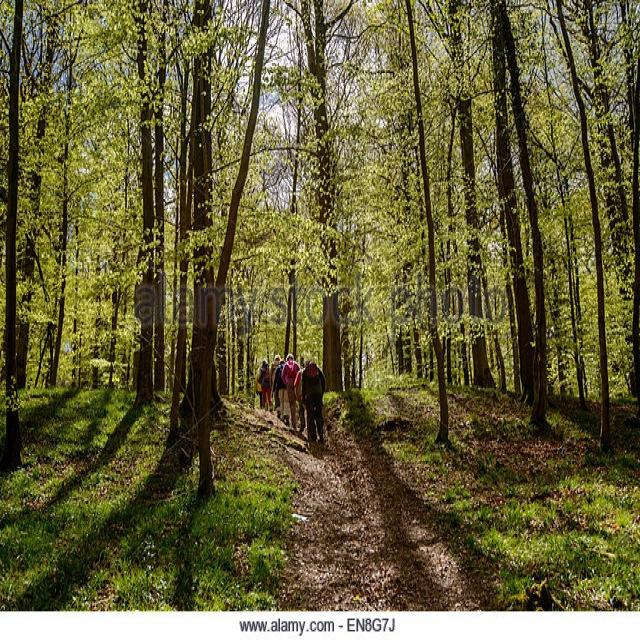body: (300, 361, 327, 445), (279, 351, 302, 435), (272, 358, 292, 421), (259, 359, 275, 414), (268, 352, 281, 417), (253, 365, 268, 414), (301, 358, 312, 409)
